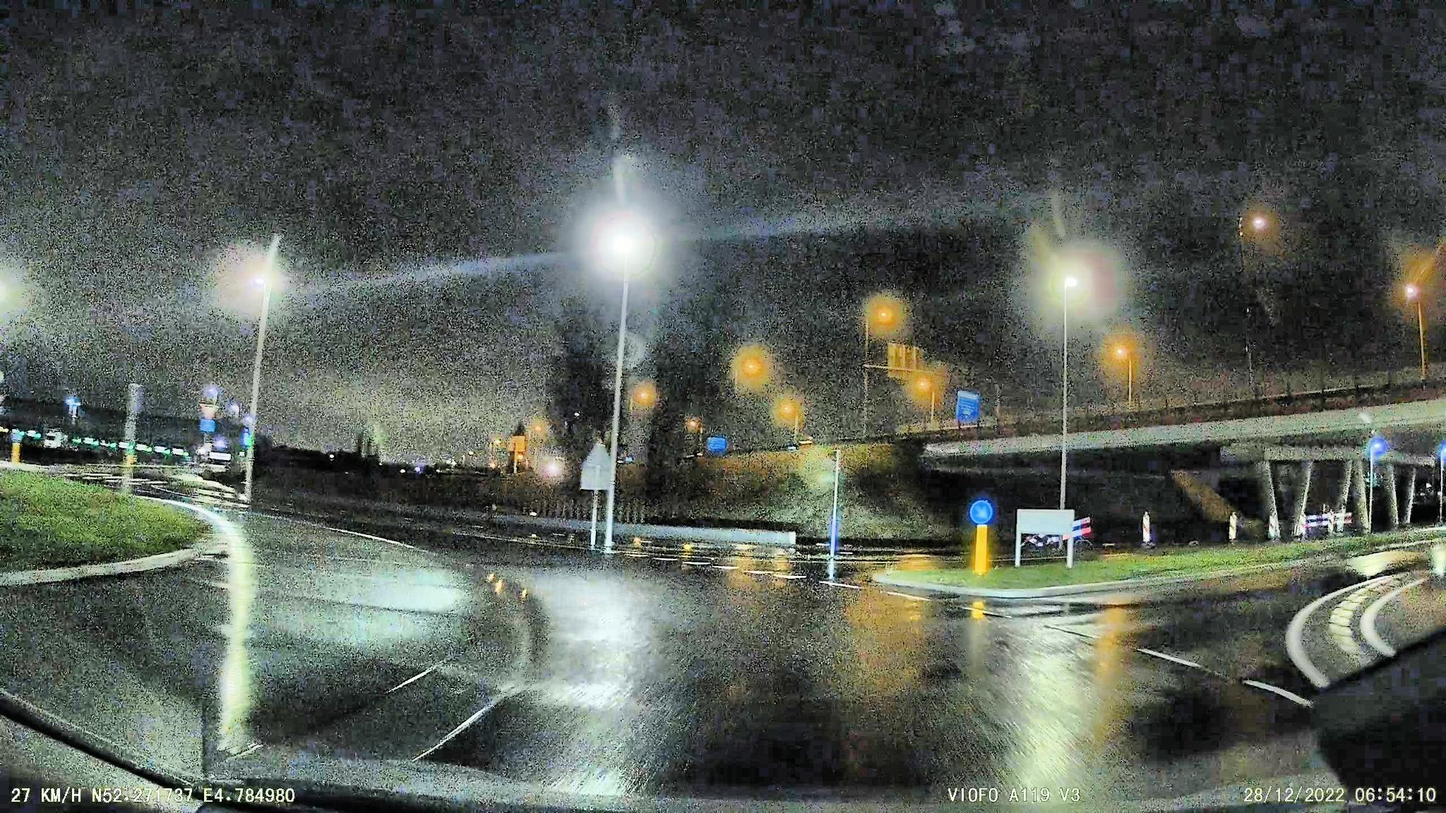Roads: (343, 524, 1446, 813)
